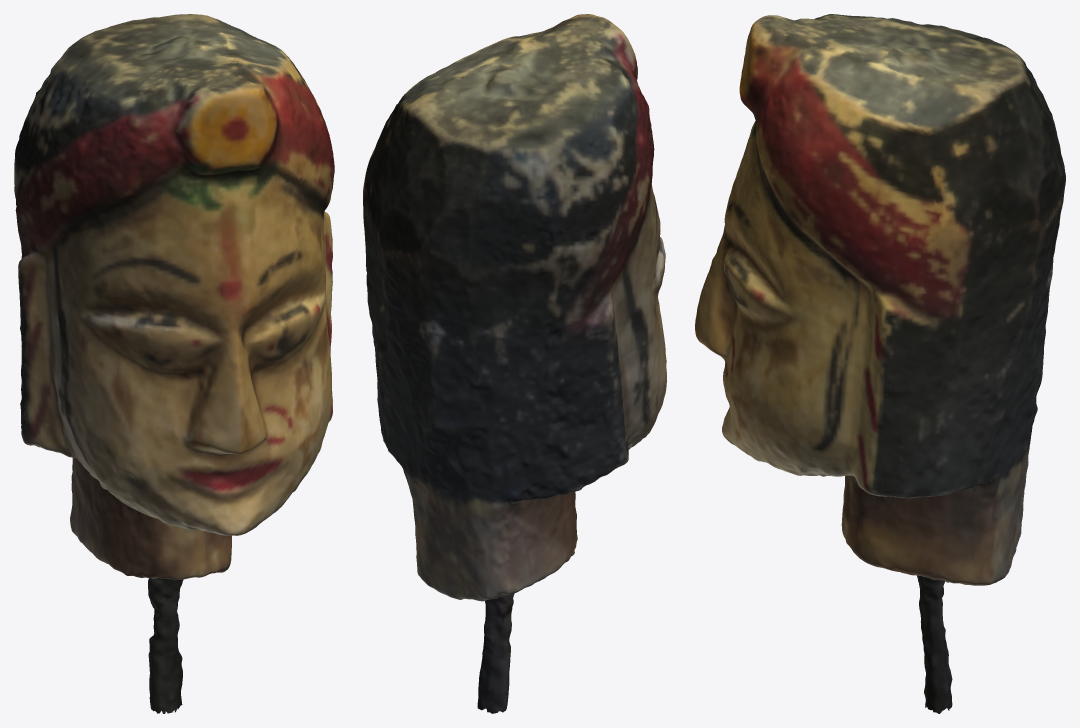
Rendered from whackhead.glb.
The picture shows the model from 3 angles, left to right: view 1: azimuth 30°, elevation 25°; view 2: azimuth 150°, elevation 25°; view 3: azimuth 270°, elevation 25°; orthographic projection. The views are drawn at different scales.
Visible parts, largest first — view 1: Object_3; view 2: Object_3; view 3: Object_3.
Boxes of the visible parts, x1,y1,x2,y2 form: Object_3: [14, 14, 334, 713]; Object_3: [363, 14, 666, 713]; Object_3: [695, 14, 1065, 713].
Size of the model in its own units: 0.4561 by 1.06 by 0.5298.
Materials: 2 (2 with a texture image).
